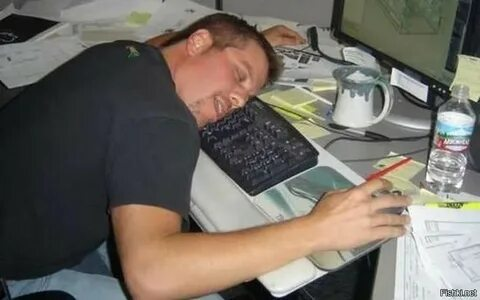sleep: (1, 12, 413, 300)
